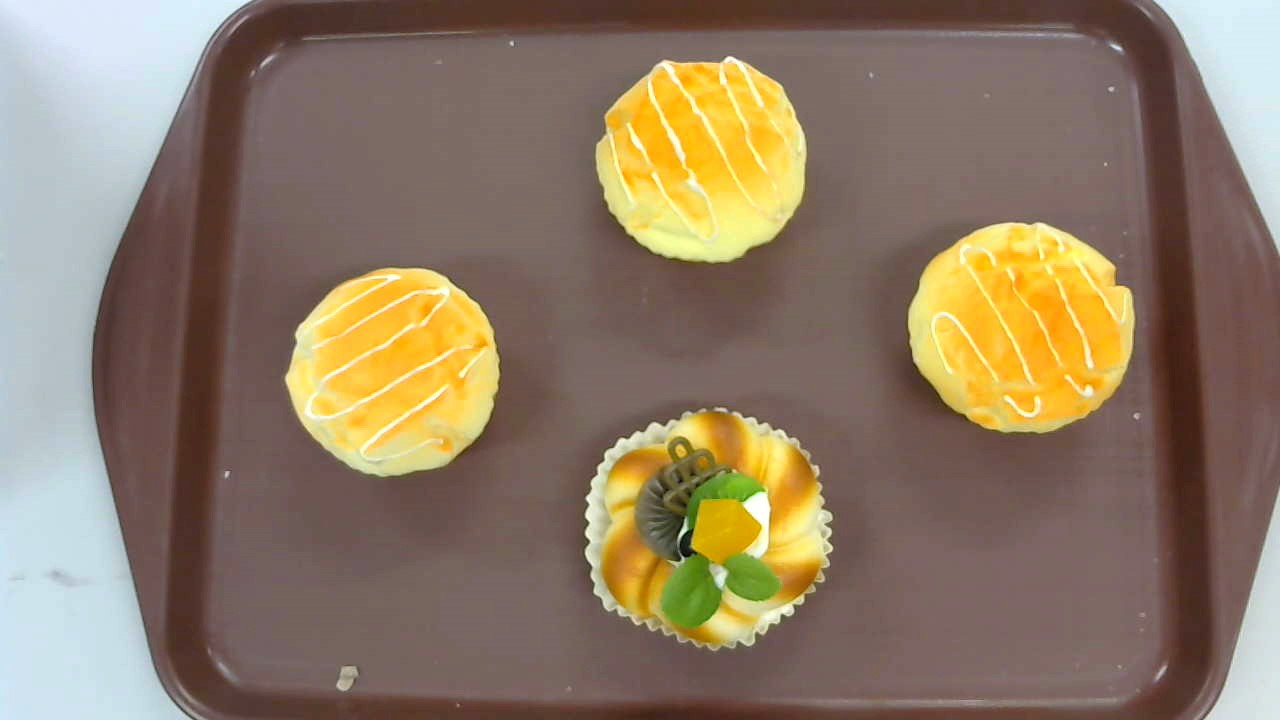cupcake: (906, 220, 1136, 436), (285, 267, 502, 480), (594, 56, 807, 264)
fruit tart: (584, 404, 834, 653)
